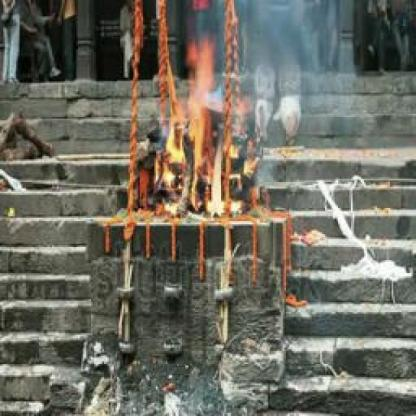fire: (161, 37, 242, 217)
